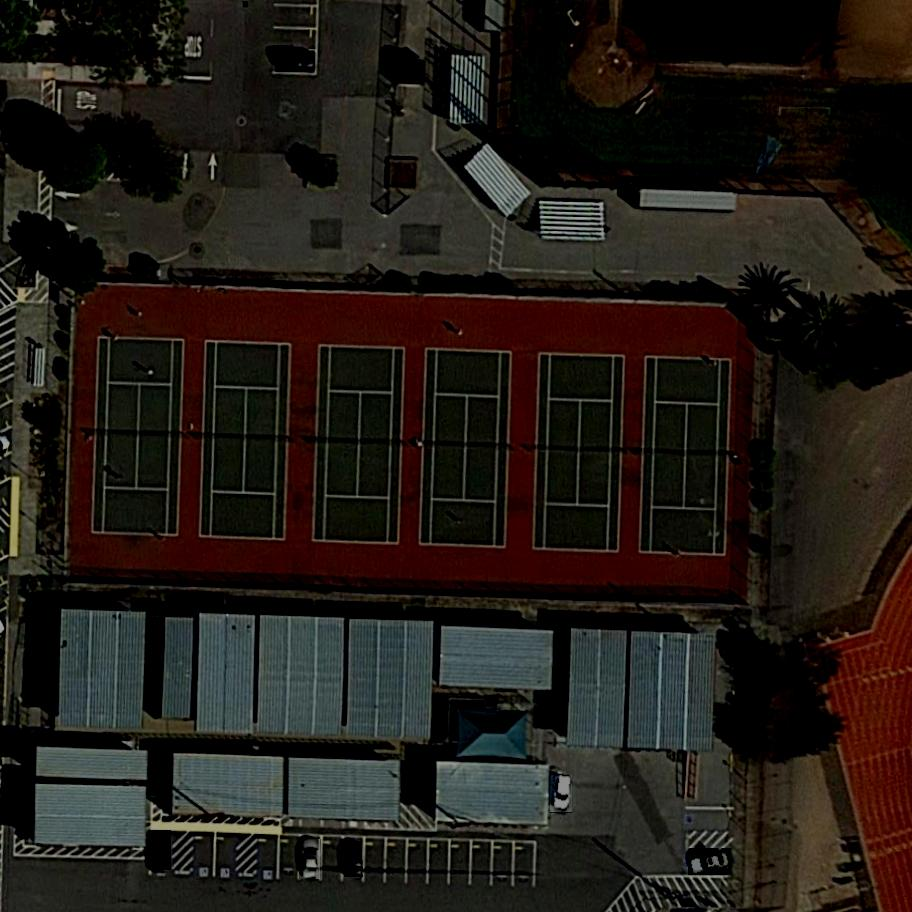small-vehicle: (689, 848, 734, 876), (149, 830, 172, 871), (299, 838, 321, 880), (550, 775, 573, 814), (275, 51, 315, 72), (344, 842, 363, 877)
